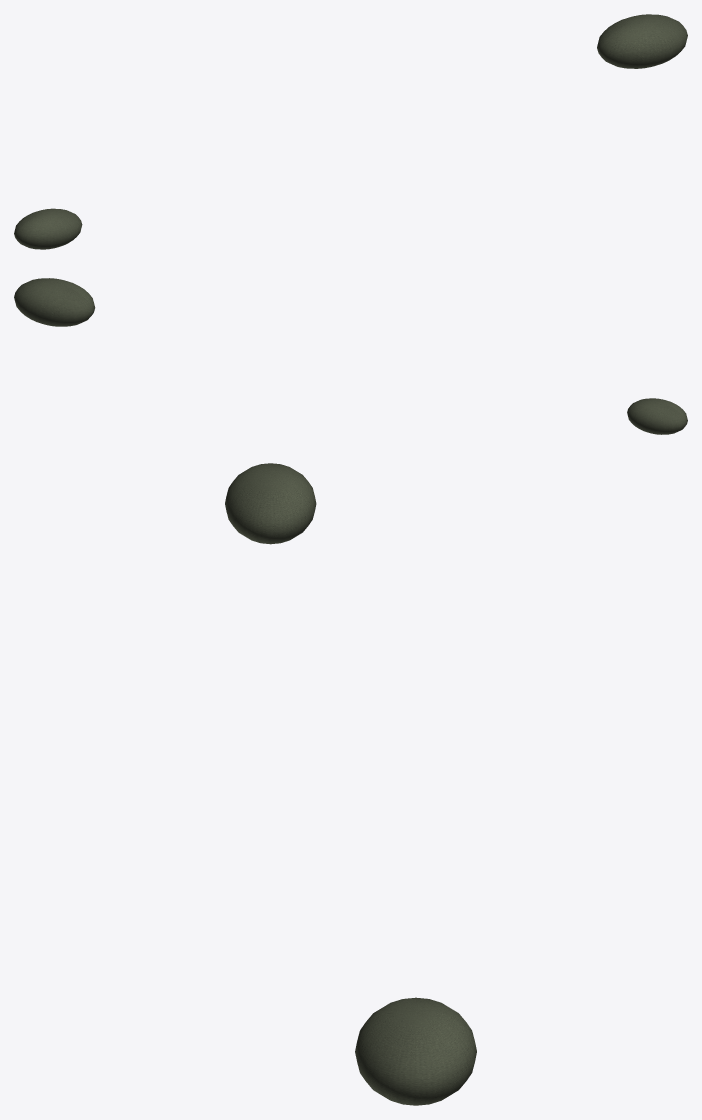
The model's file is beach-v1.glb.
The picture shows the model from 3 angles, top to bottom: view 1: azimuth 30°, elevation 25°; view 2: azimuth 150°, elevation 25°; view 3: azimuth 270°, elevation 25°; orthographic projection. The views are drawn at different scales.
Visible parts, largest first — view 1: Verge boulder; view 2: Verge boulder; view 3: Verge boulder.
Boxes of the visible parts, left/top/right/bottom form: Verge boulder: left=14, top=14, right=687, bottom=249; Verge boulder: left=14, top=278, right=687, bottom=434; Verge boulder: left=225, top=463, right=476, bottom=1105.
Size of what is drawn, in the model's own units: 20.1 by 1.2 by 3.47.
1 material, 1 textured.
